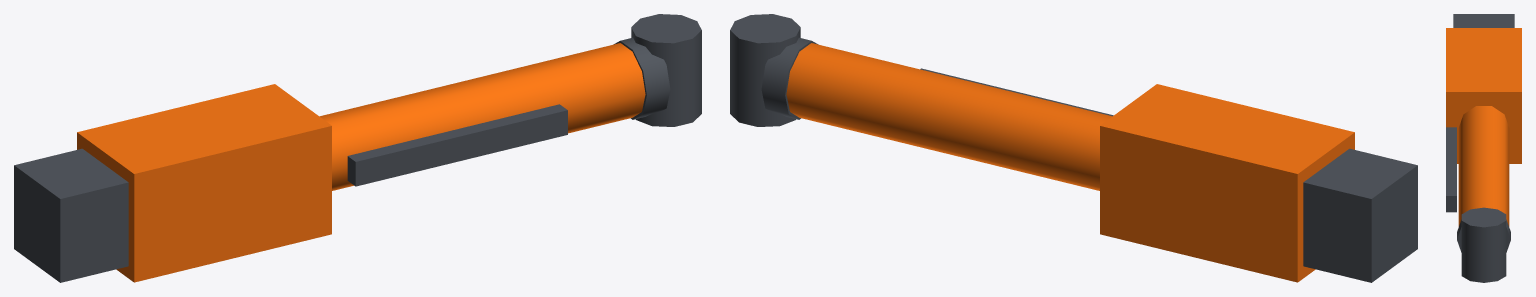
Rendered from arm_fore.obj.
3 renders of one model, left to right at view 1: azimuth 30°, elevation 25°; view 2: azimuth 150°, elevation 25°; view 3: azimuth 270°, elevation 25°, orthographic. The views are drawn at different scales.
Parts seen in each view (by area): view 1: robot_orange, machine_dark; view 2: robot_orange, machine_dark; view 3: robot_orange, machine_dark.
Boxes of the visible parts, <box> form: robot_orange: <box>77,43,645,282</box>; machine_dark: <box>14,14,701,282</box>; robot_orange: <box>786,43,1354,282</box>; machine_dark: <box>730,14,1417,282</box>; robot_orange: <box>1446,28,1521,226</box>; machine_dark: <box>1446,14,1514,282</box>.
Size of the model in its own units: 1.4 by 0.22 by 0.21.
